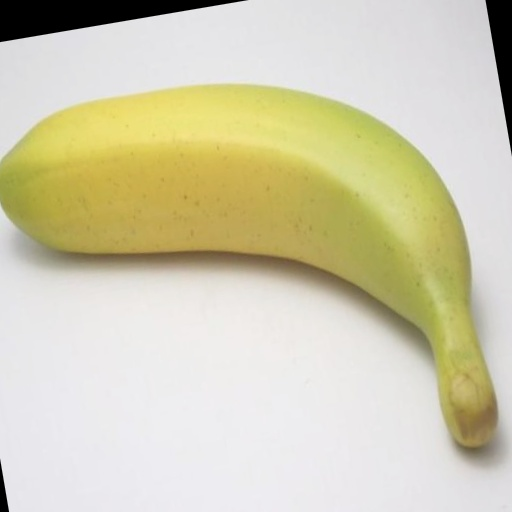fruit: (0, 84, 498, 446)
